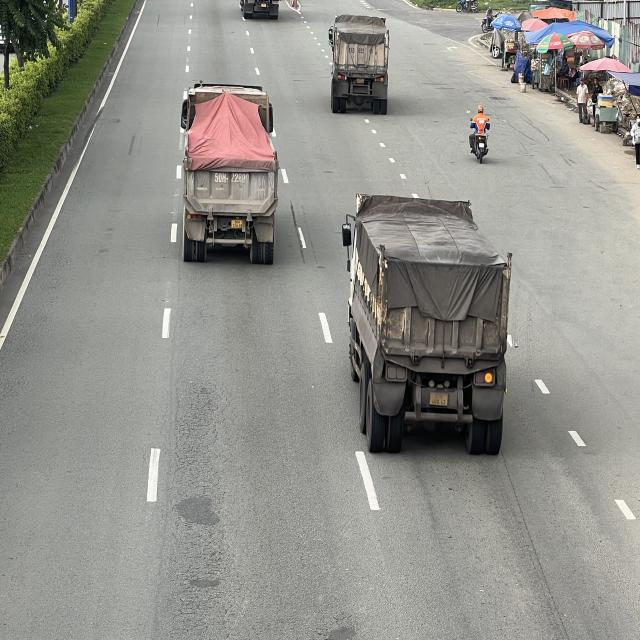container: (343, 190, 515, 453), (178, 82, 282, 266), (328, 16, 392, 114)
